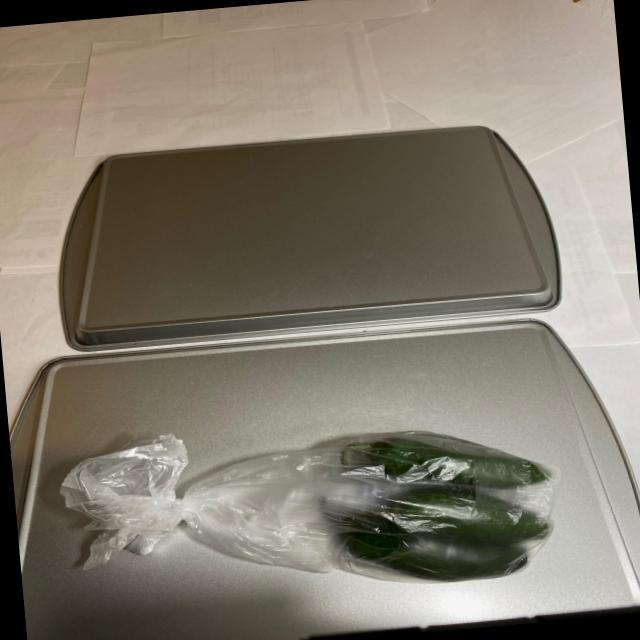chilli: (303, 419, 572, 592)
